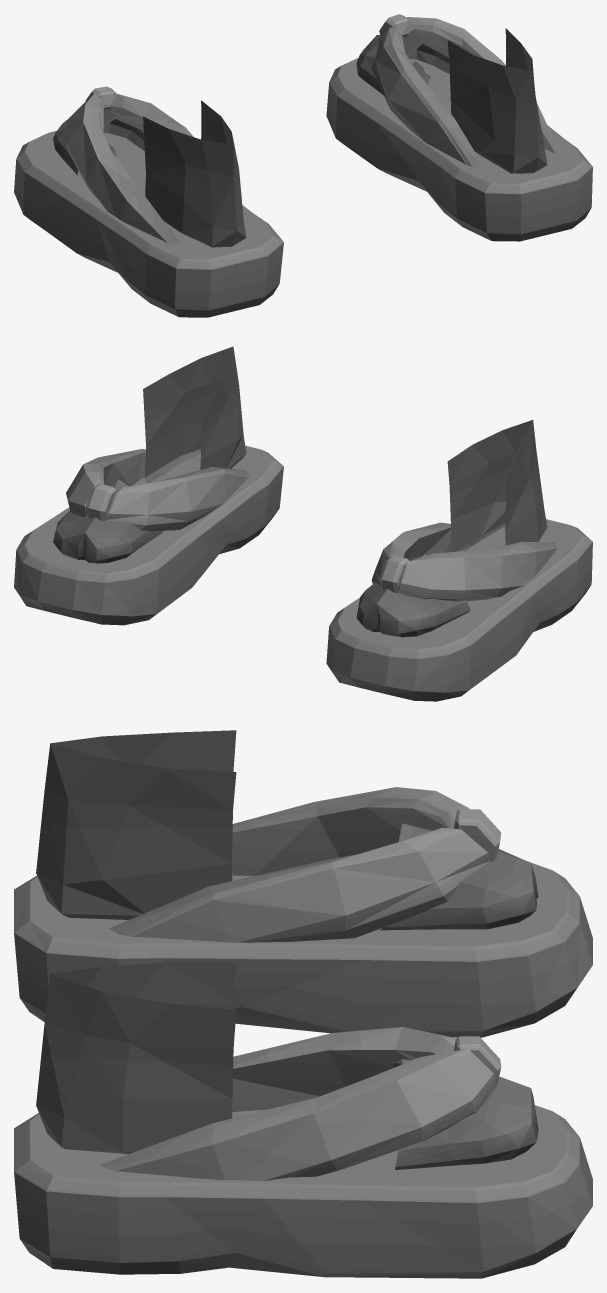
File: CharSkyKid_Feet_AP20RobeSandals.glb
3 views of the same model, one above another, from view 1: azimuth 30°, elevation 25°; view 2: azimuth 150°, elevation 25°; view 3: azimuth 270°, elevation 25° (orthographic). The views are drawn at different scales.
Parts seen in each view (by area): view 1: CharSkyKid_Feet_AP20RobeSandals; view 2: CharSkyKid_Feet_AP20RobeSandals; view 3: CharSkyKid_Feet_AP20RobeSandals.
Boxes of the visible parts, x1,y1,x2,y2 form: CharSkyKid_Feet_AP20RobeSandals: (14,14,592,317); CharSkyKid_Feet_AP20RobeSandals: (14,346,592,701); CharSkyKid_Feet_AP20RobeSandals: (14,730,592,1278).
Size of the model in its own units: 2.69 by 0.9285 by 1.91.
1 material, 1 textured.
